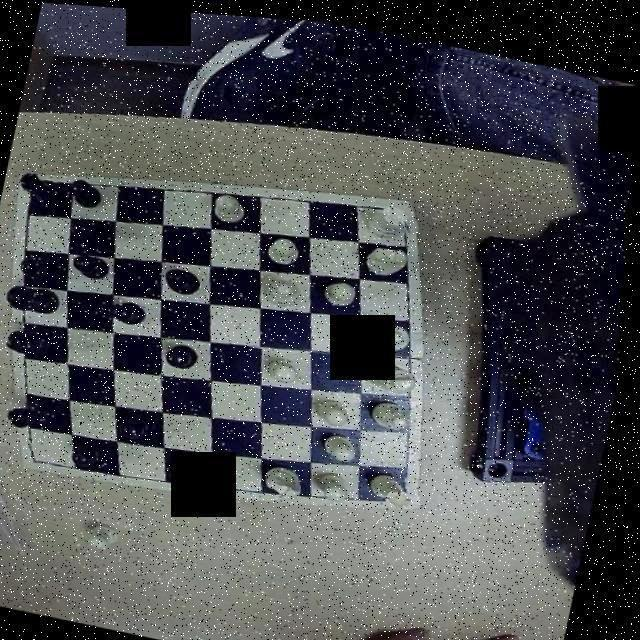chess-table-corners: (383, 190, 426, 232), (393, 465, 431, 504), (24, 170, 62, 206), (26, 436, 62, 468)
